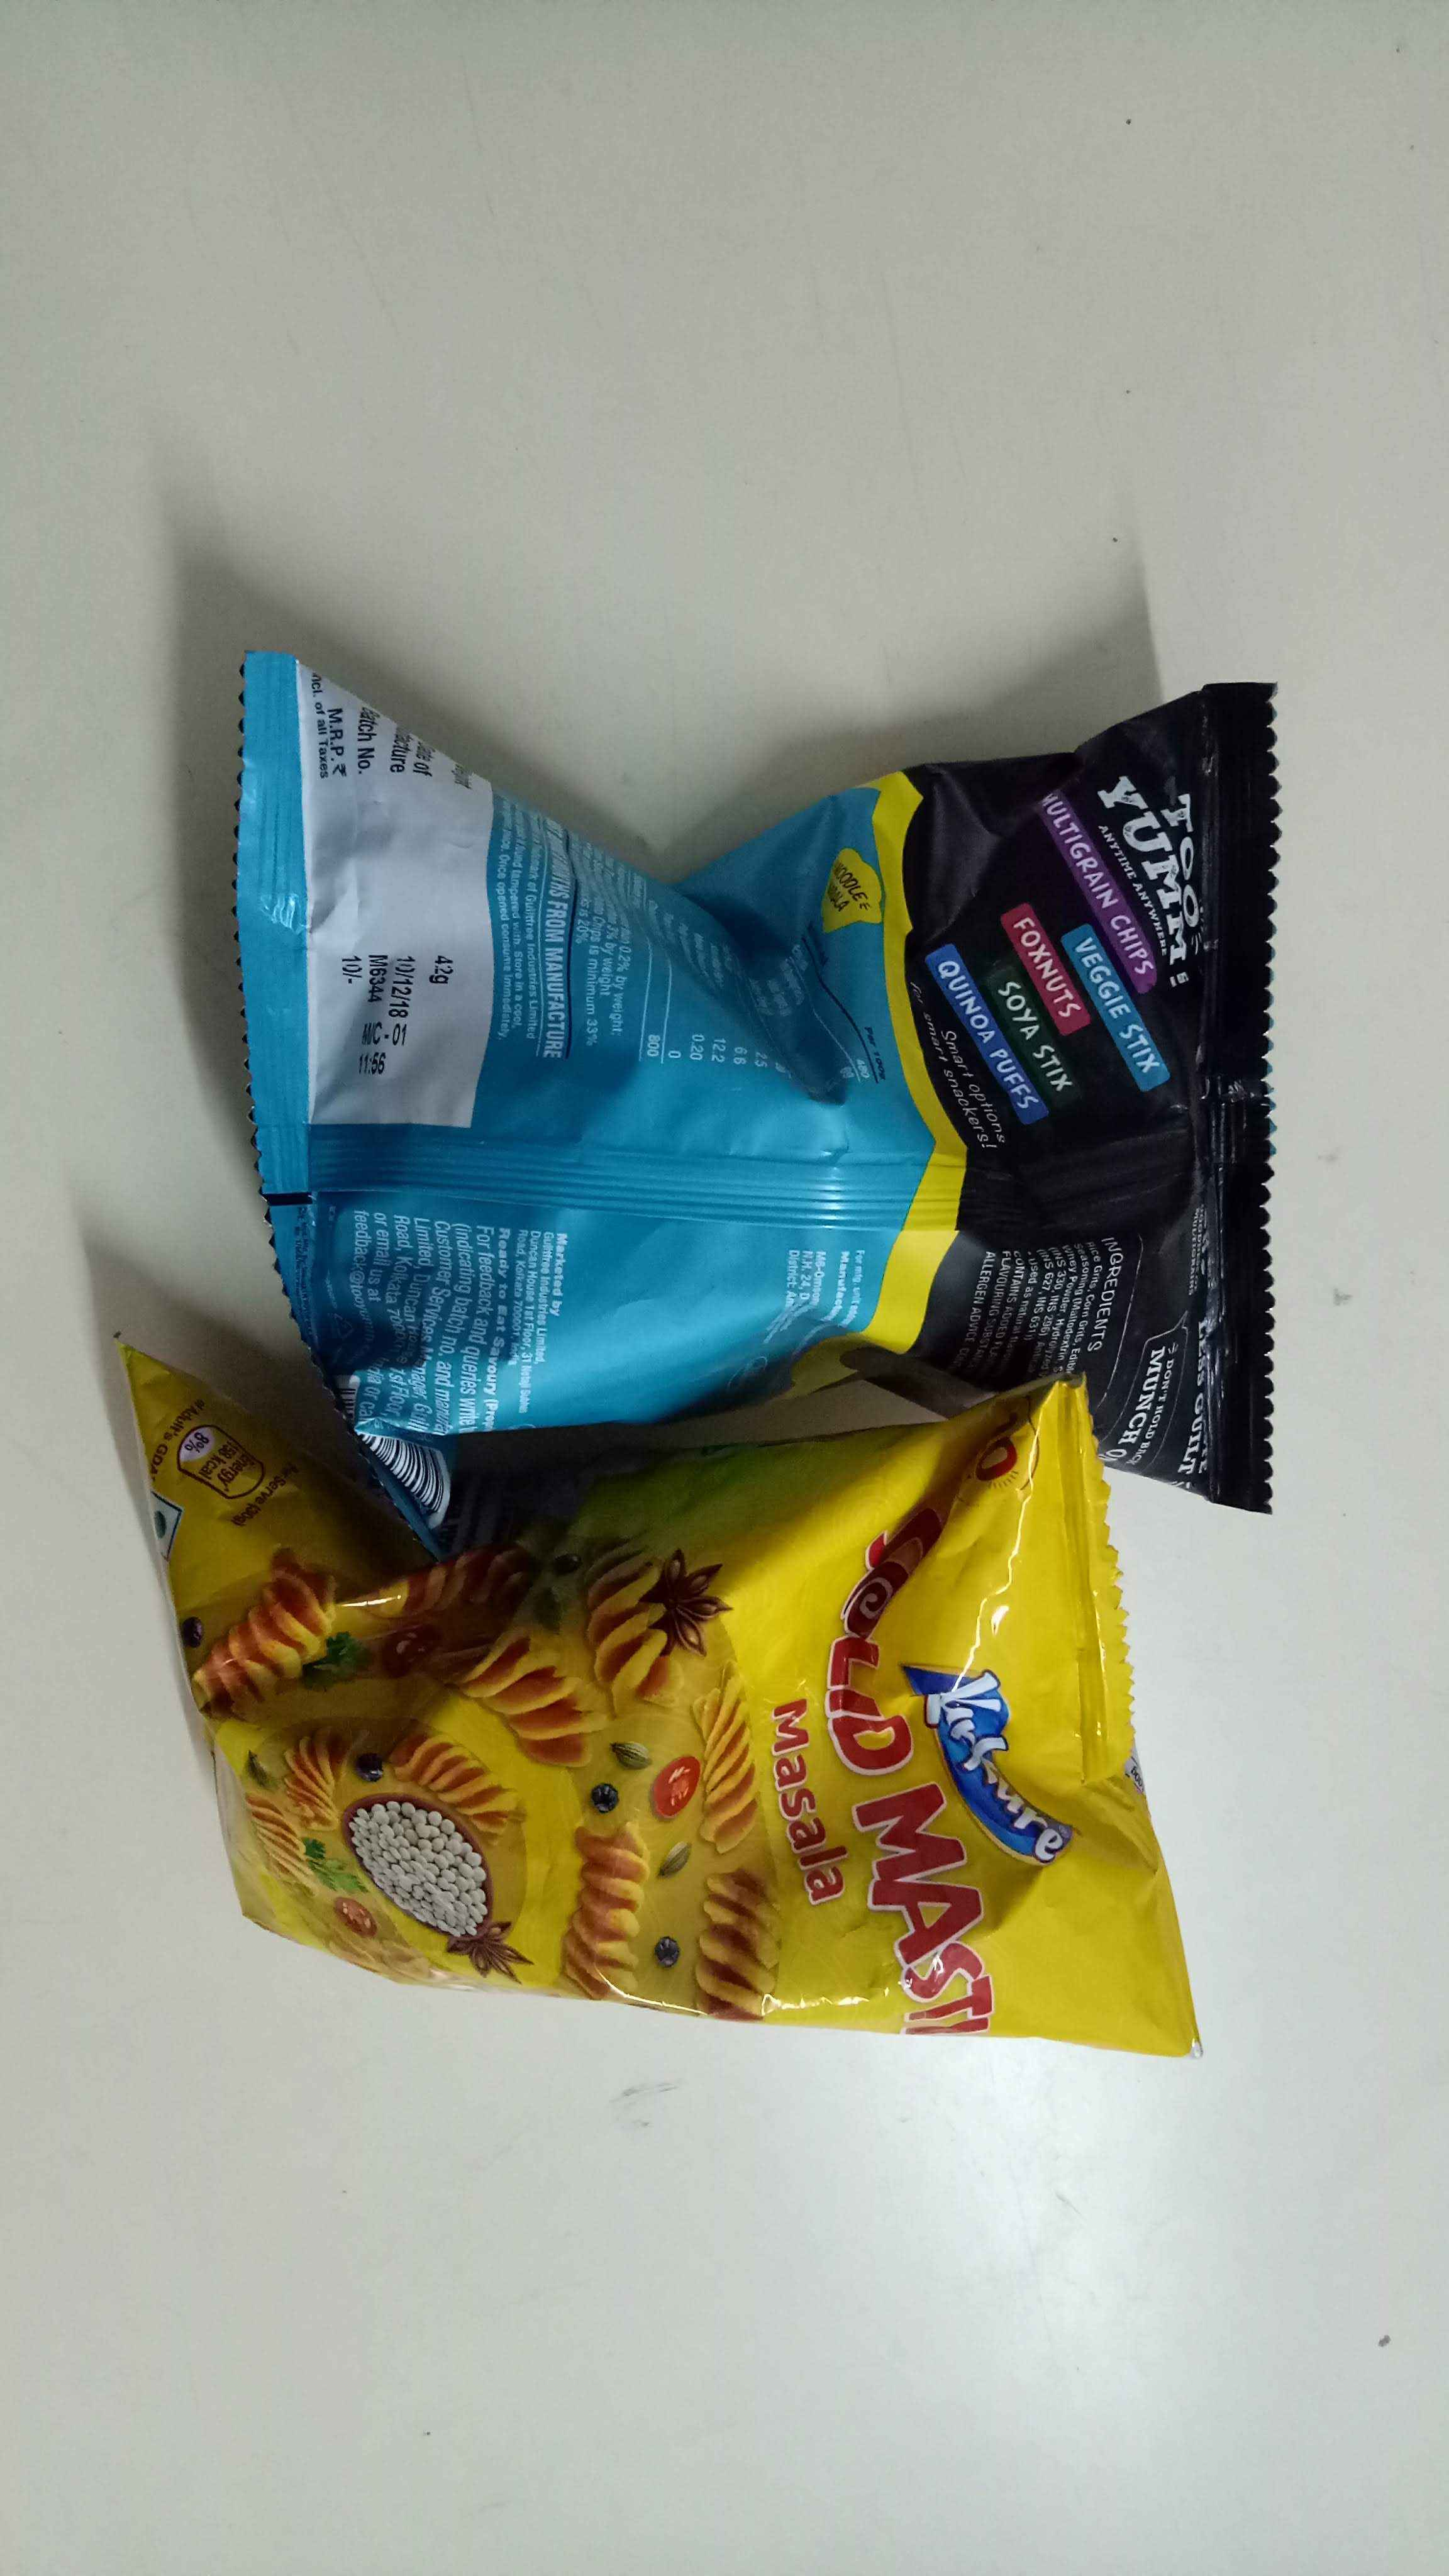kurkure: (913, 1660, 1122, 1868)
tooyumm: (1100, 736, 1251, 971)
